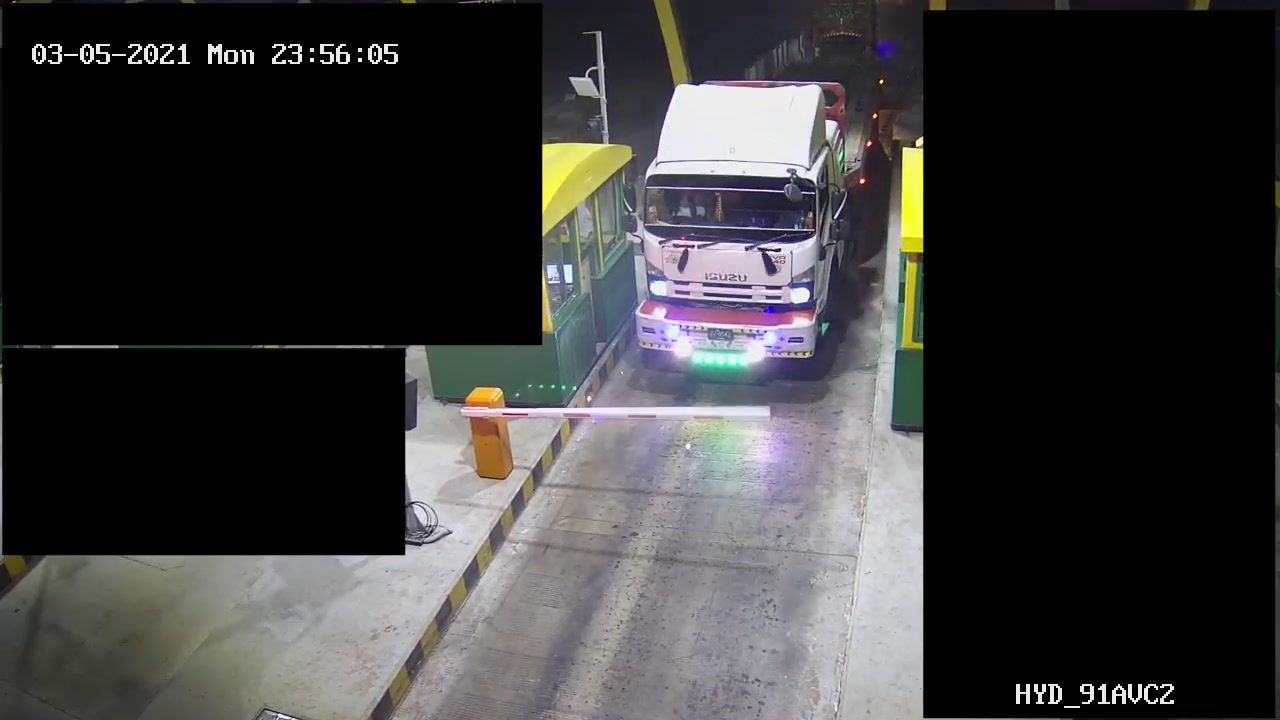F6: (616, 73, 887, 389)
